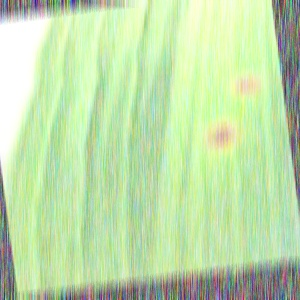Bacterial_Leaf_Blight: (194, 112, 259, 158), (227, 68, 270, 105)
